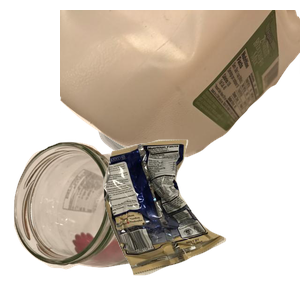glass: (11, 139, 179, 300)
metal: (90, 44, 289, 195)
plastic: (60, 10, 300, 160)
trash: (101, 137, 300, 300)
